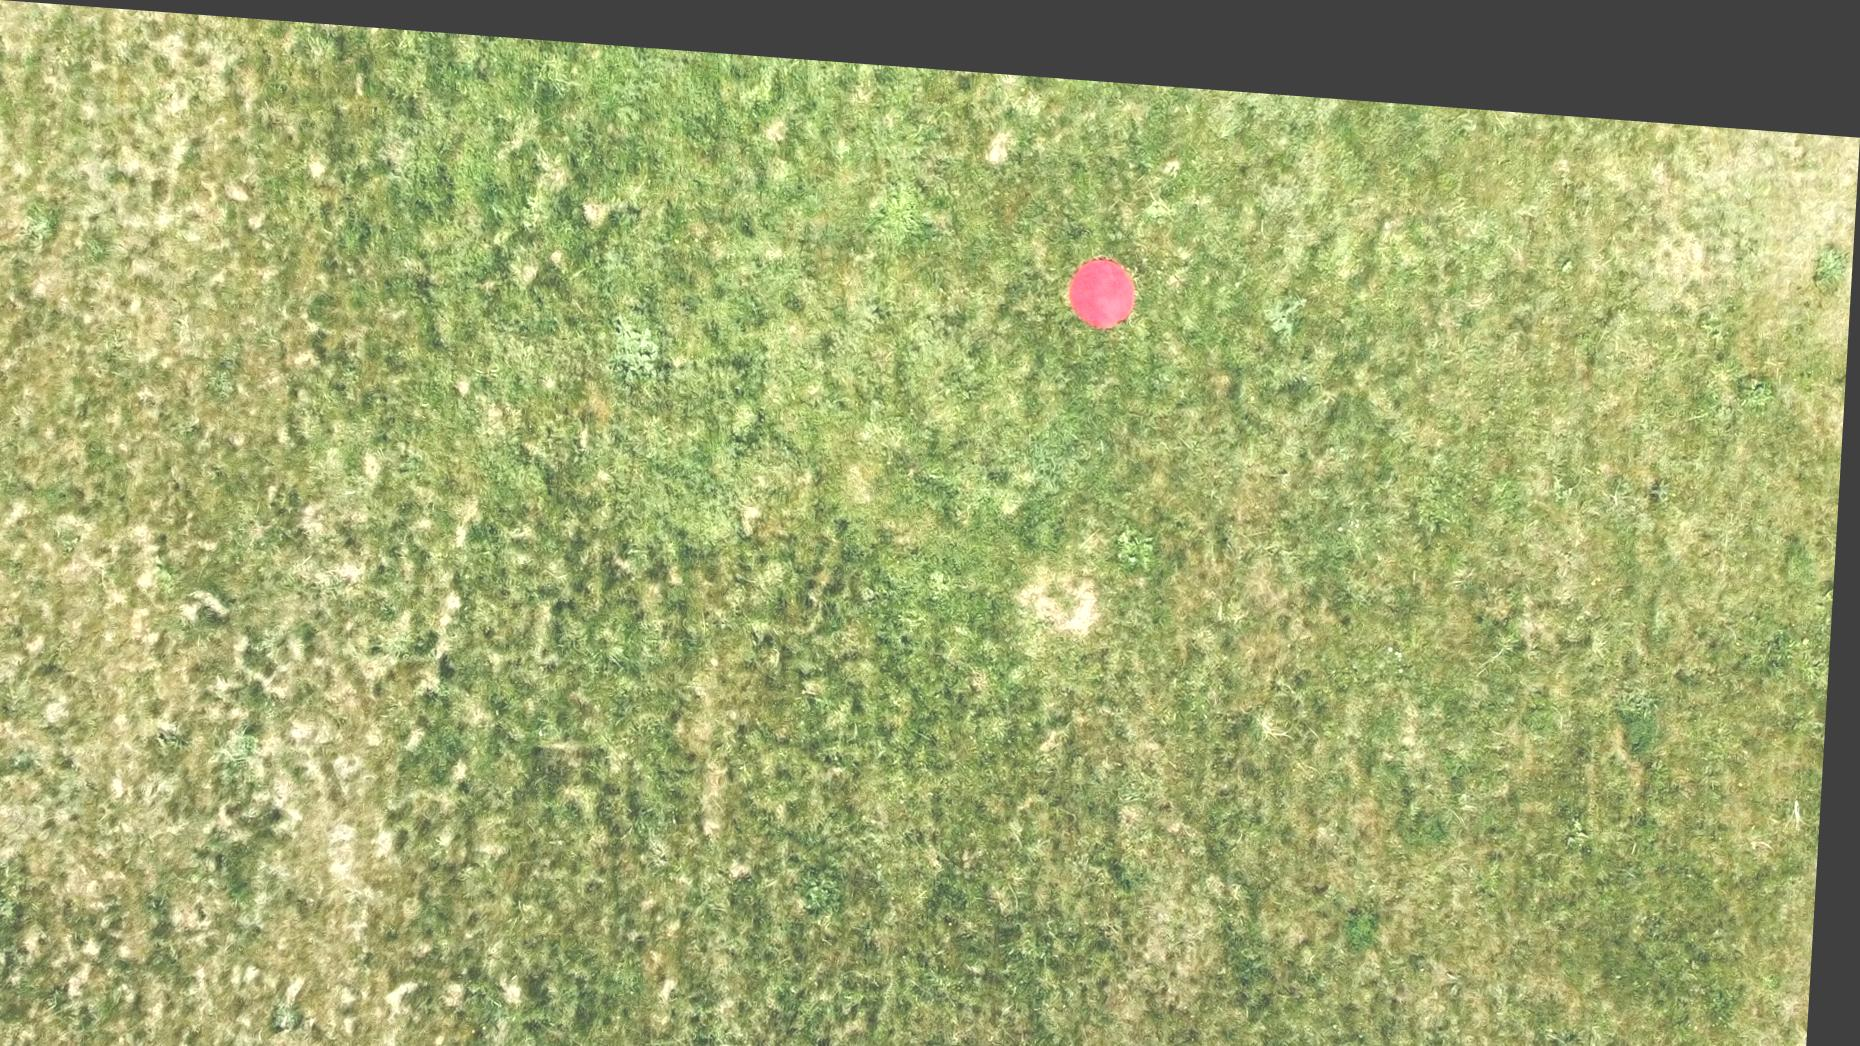Red: (1069, 239, 1142, 313)
